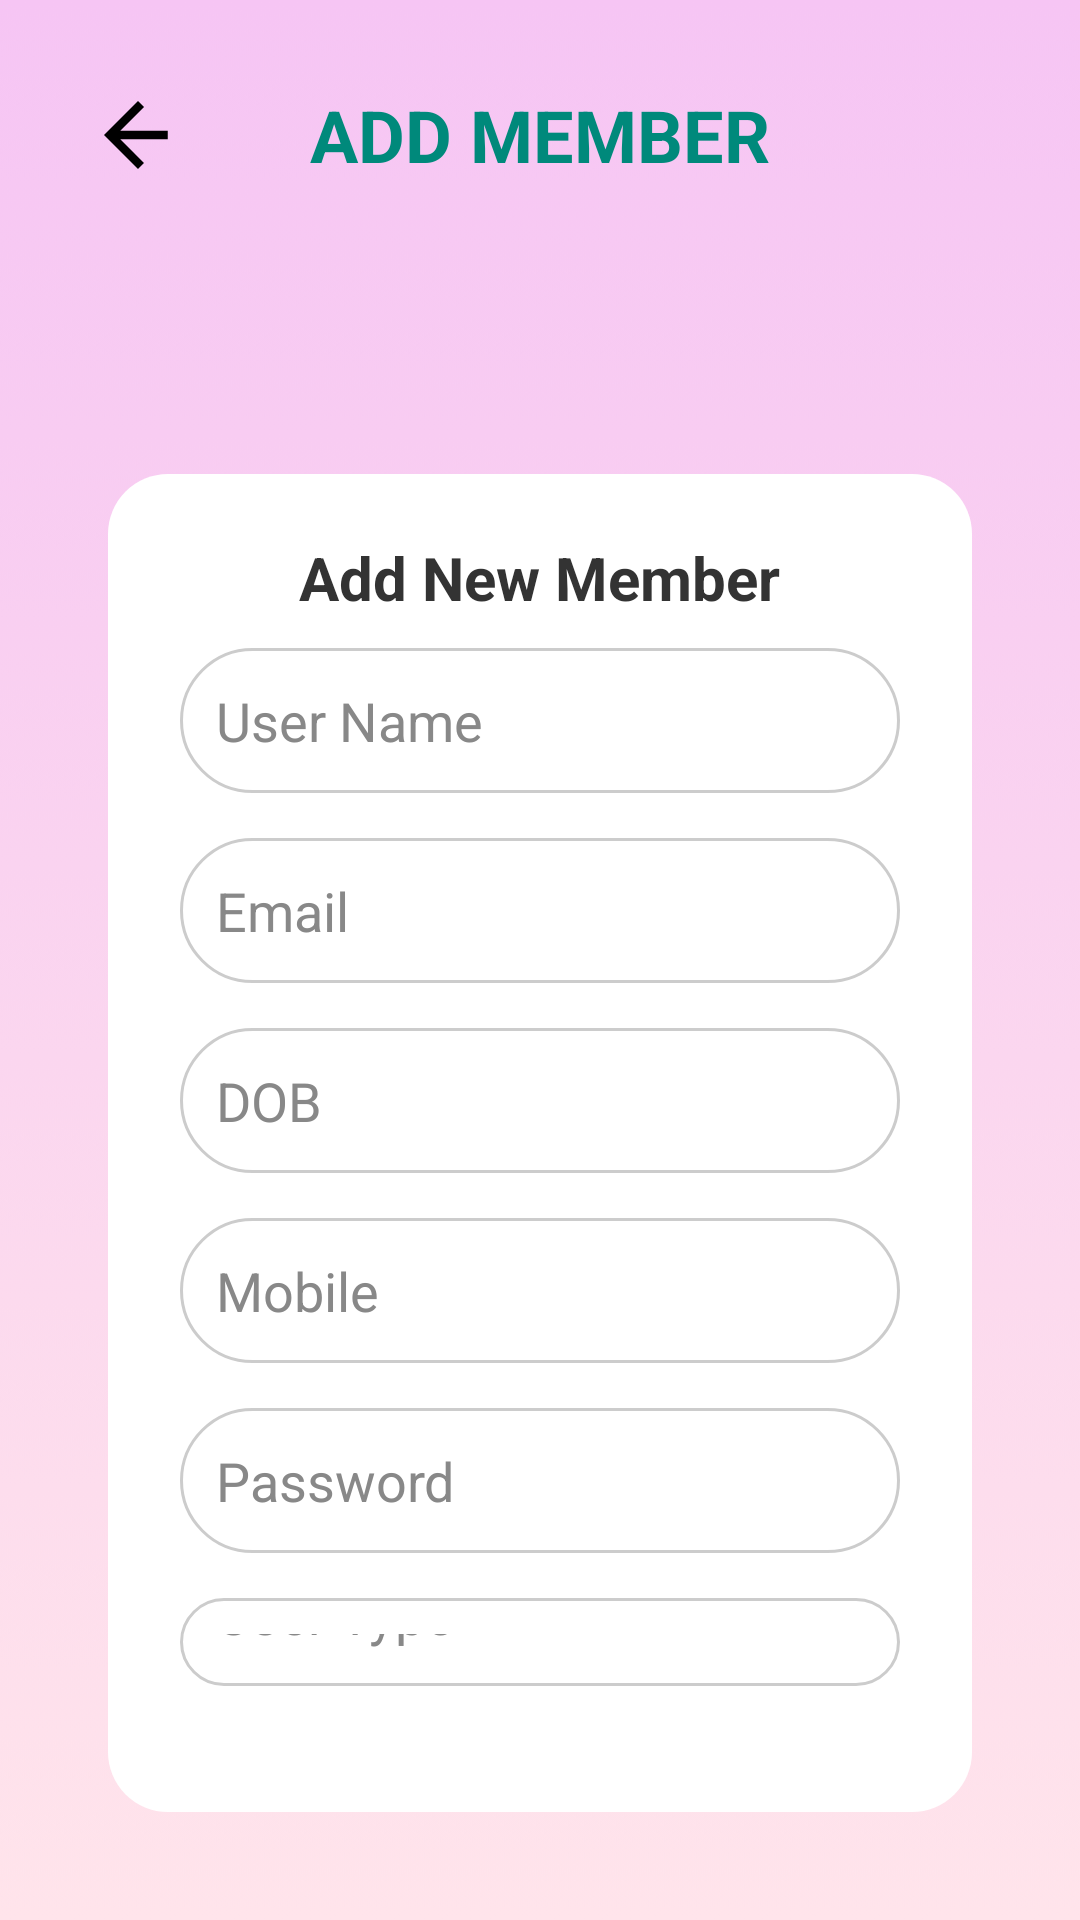

Named icons in this screenshot (1080w x 1920h) and their bounding boxes, Rect(x1, y1, x2, y2):
Back: Rect(104, 101, 168, 169)
